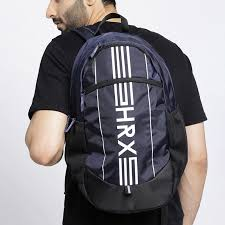backpack: (63, 17, 189, 217)
